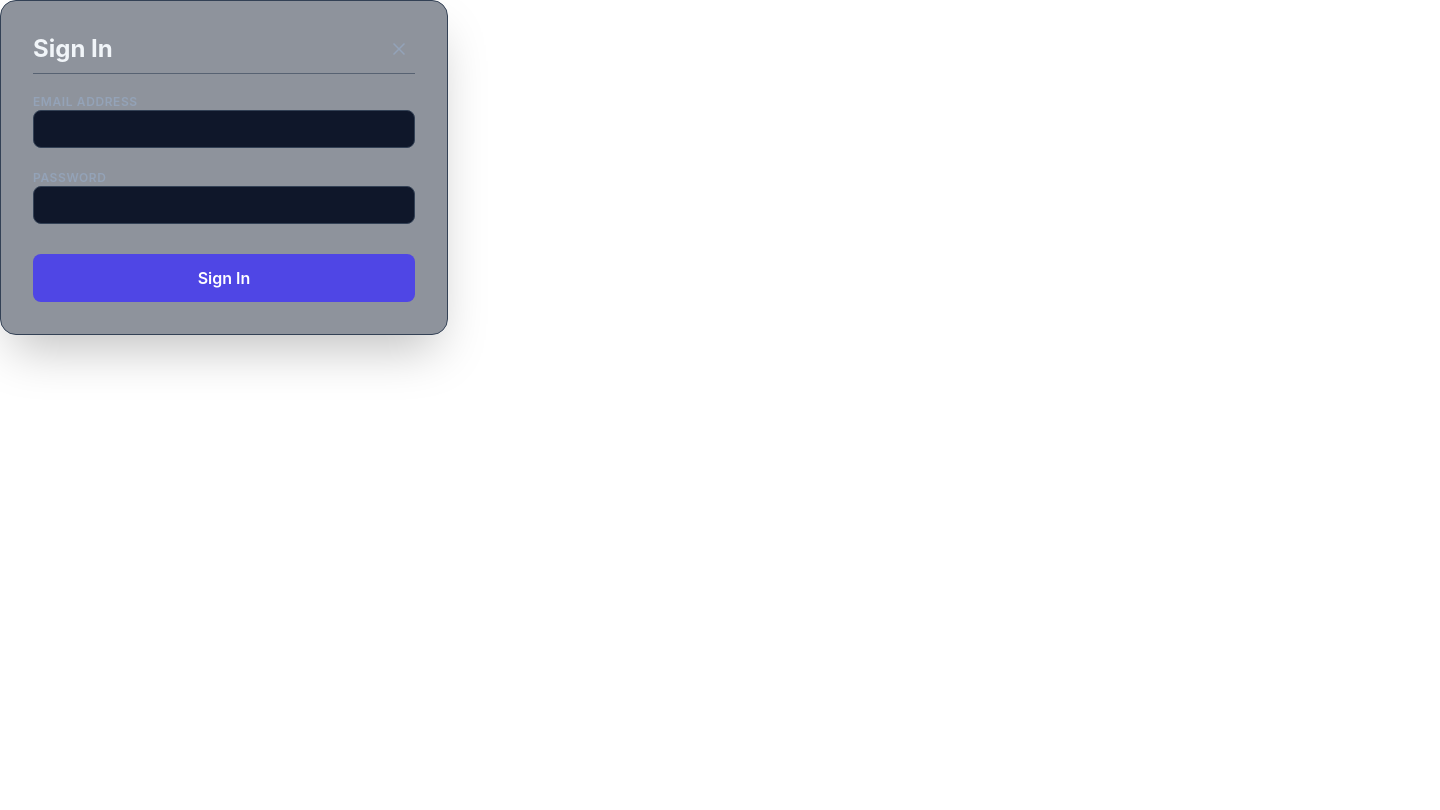
Test: SignInModalComponent › Validation & Error Handling › should display error block when errorMessage is present on rejected sign-in
Type "user@example.com" into the field labelled "Email Address" at (224, 129), box top-left (33, 110), bottom-right (415, 148)
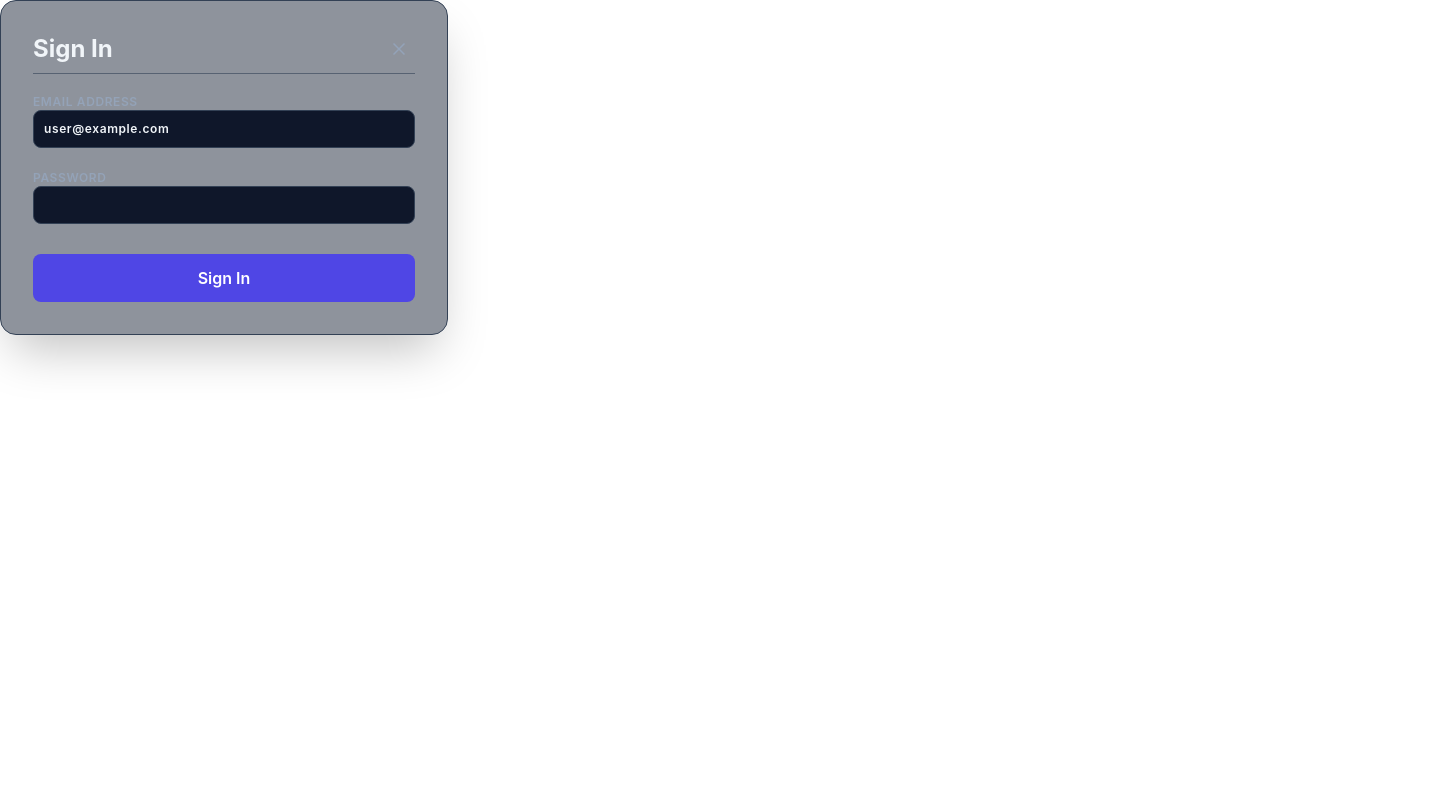
Type "validPassword123" into the password field labelled "Password" at (224, 205), box top-left (33, 186), bottom-right (415, 224)
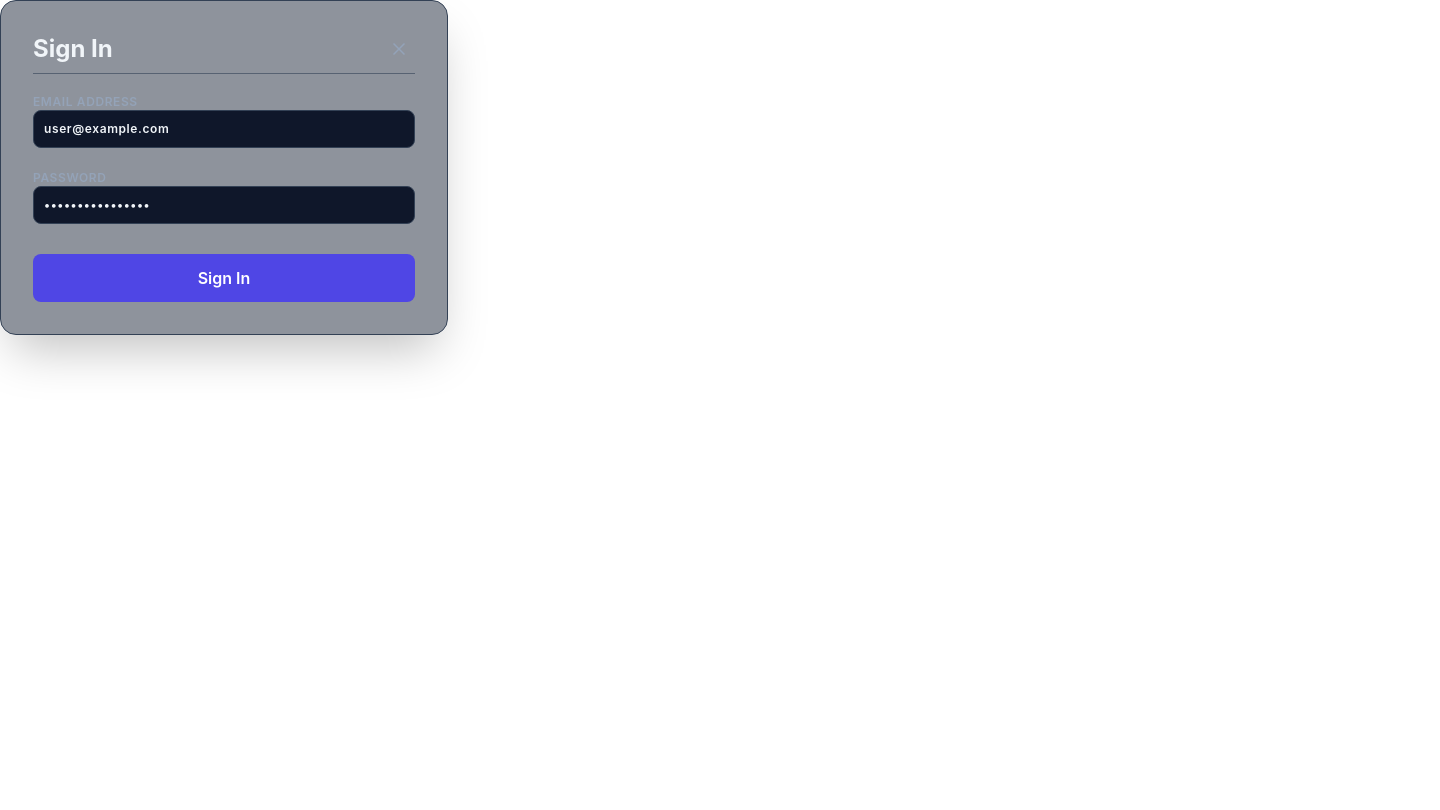
Click the submit button at (224, 278), box top-left (33, 254), bottom-right (415, 302)
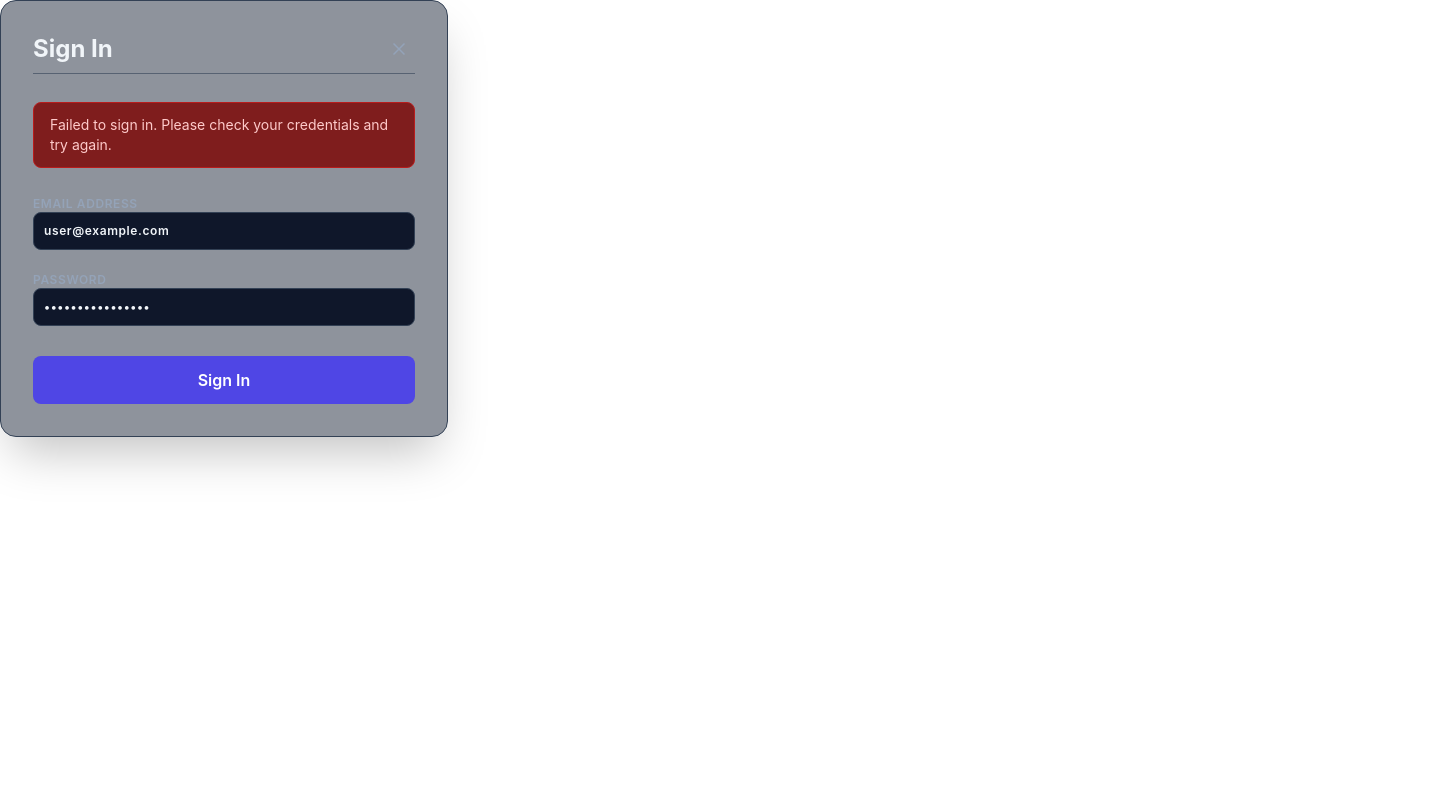
Now the message "Failed to sign in. Please check your credentials and try again." is shown, box top-left (33, 102), bottom-right (415, 168)
